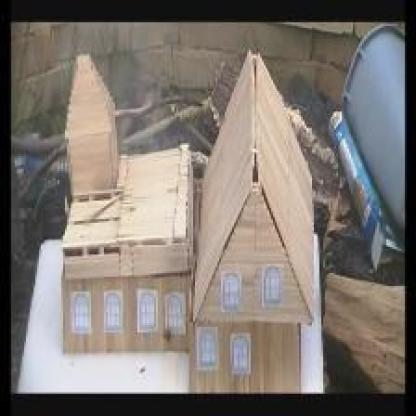smoke: (105, 66, 155, 146)
